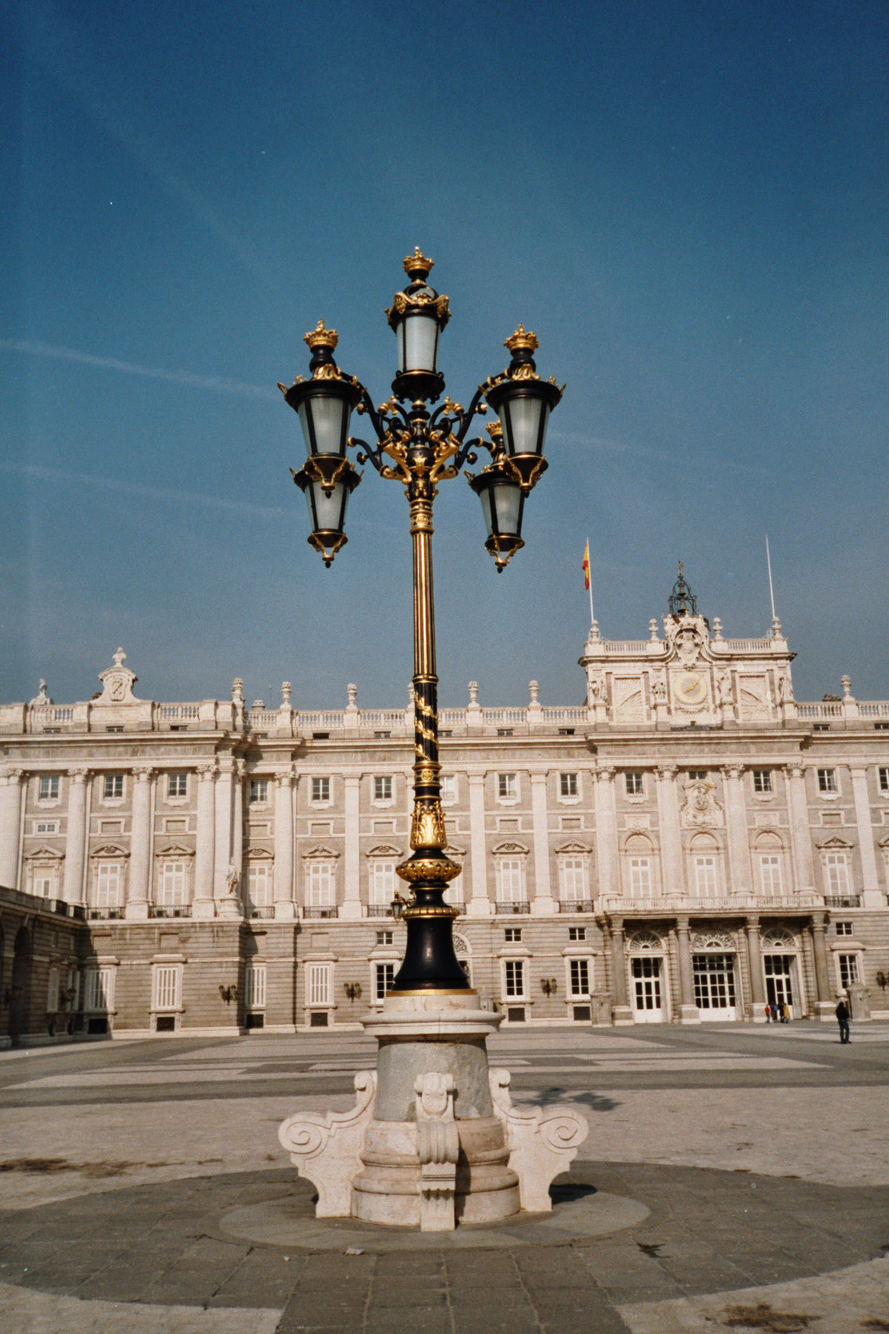fachada: (0, 562, 889, 1031)
poste: (275, 232, 602, 1230)
